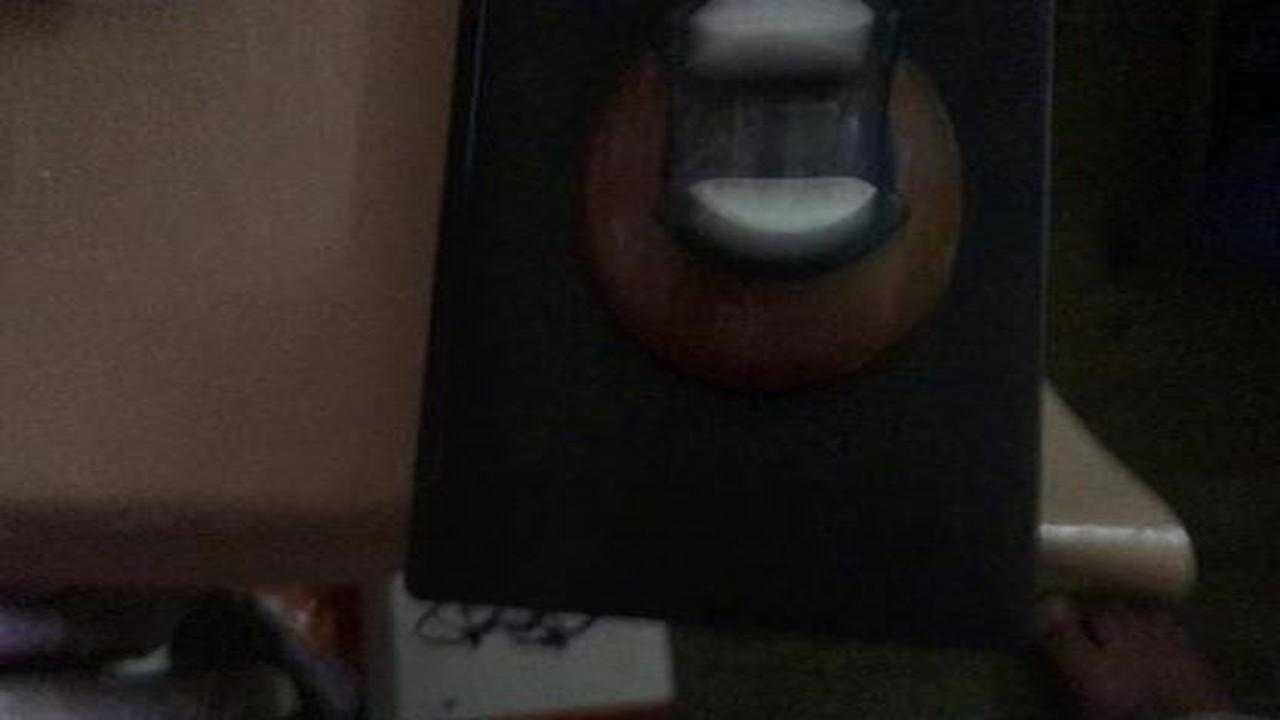insulator_pin: (545, 6, 982, 406)
